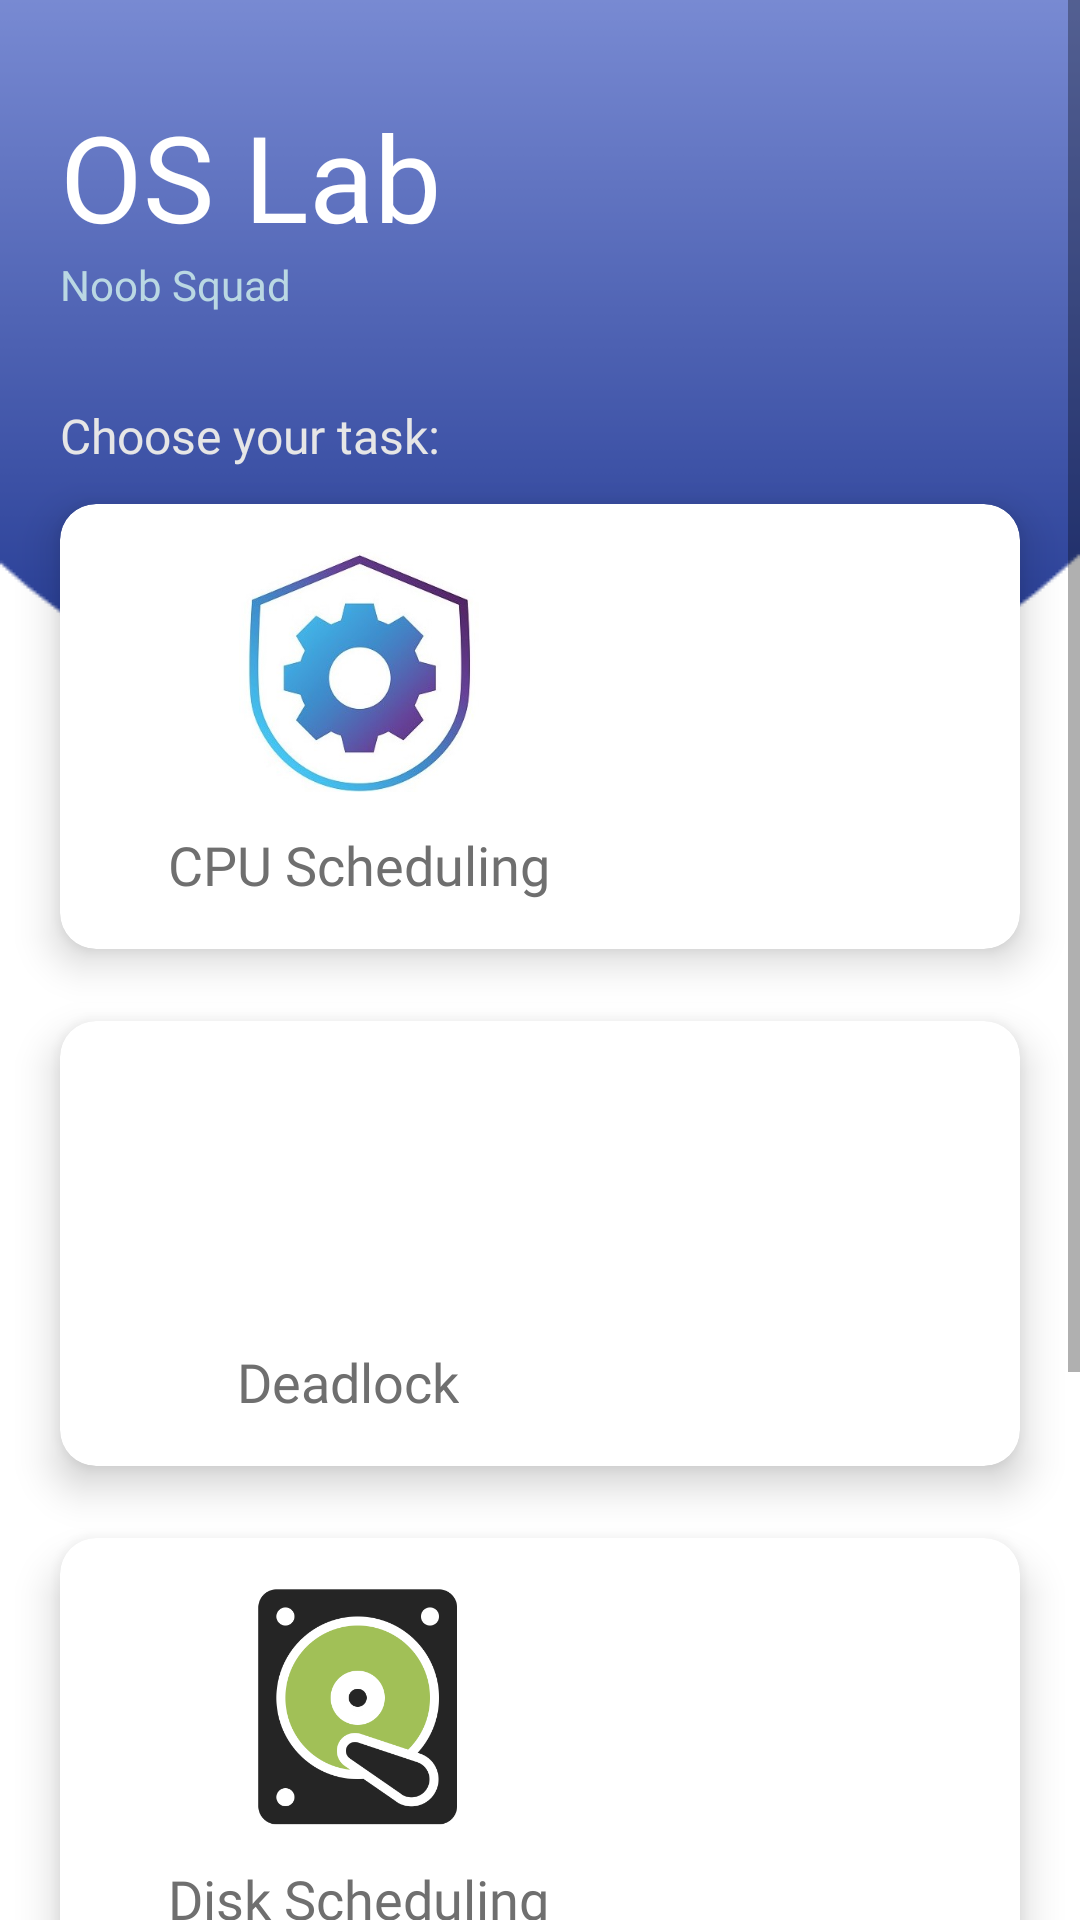

Icon bounding boxes for this 1080 x 1920 phone screenshot, format (x1, y1, x2, y2):
settingicon: (249, 555, 470, 792)
